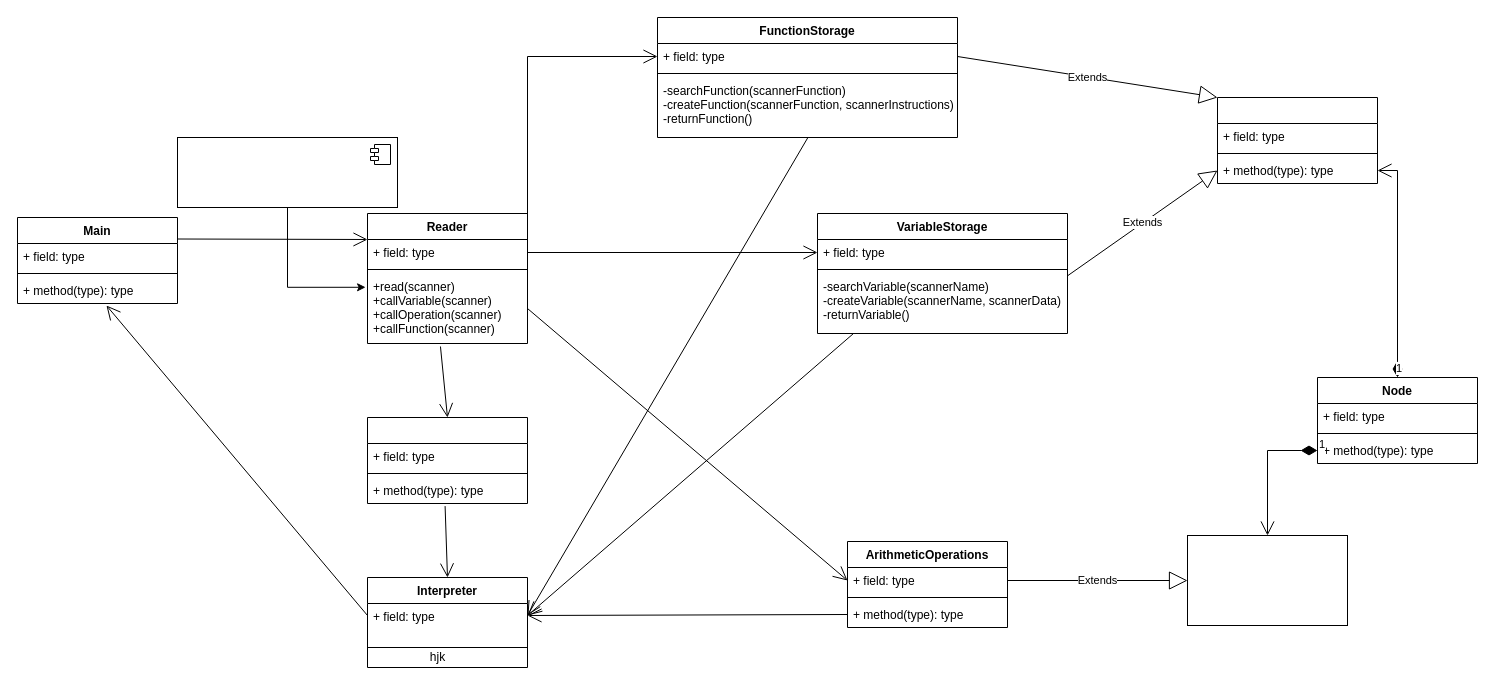
The diagram is 1495 pixels wide and 685 high, and some of its shapes have lost their labels. Each missing label, with the box of its shape:
List: (1216, 96, 1378, 184)
PredicatorVerificator: (366, 416, 528, 504)
Stack + field: Type + method(): Type: (1186, 534, 1348, 626)
«Annotation 1» Quote será implementado en el reader: (176, 136, 398, 208)
